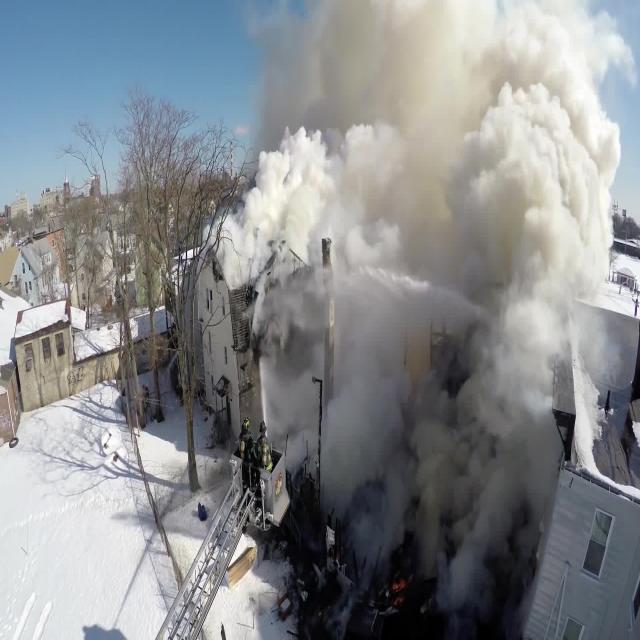Smoke: (217, 6, 618, 510)
